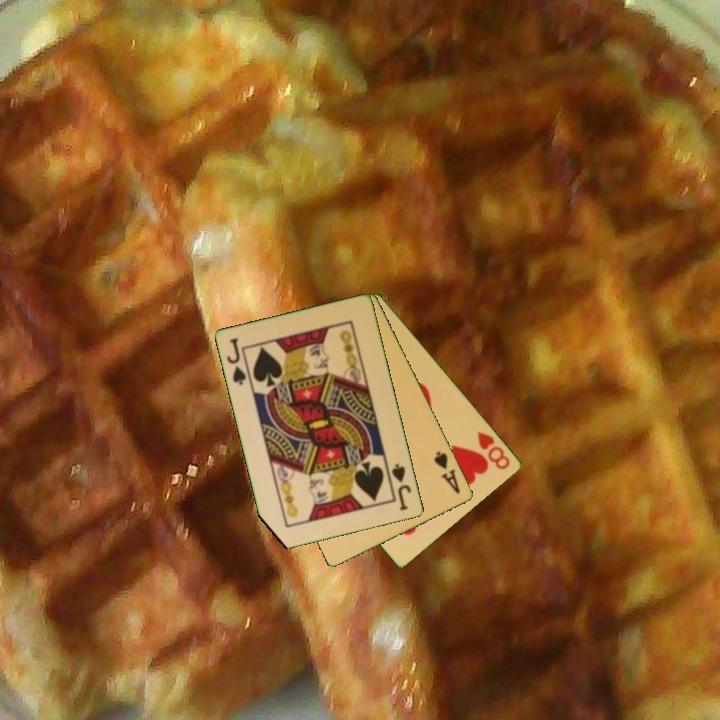8h: (474, 428, 513, 472)
As: (431, 448, 463, 497)
Js: (223, 335, 253, 388), (388, 460, 414, 514)
